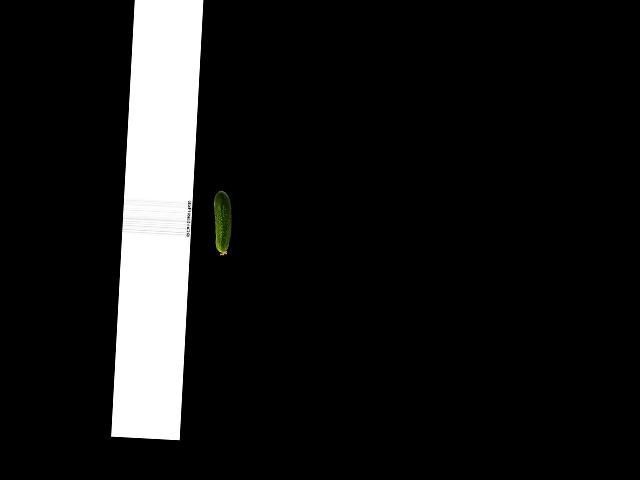cucumber: (211, 190, 233, 255)
